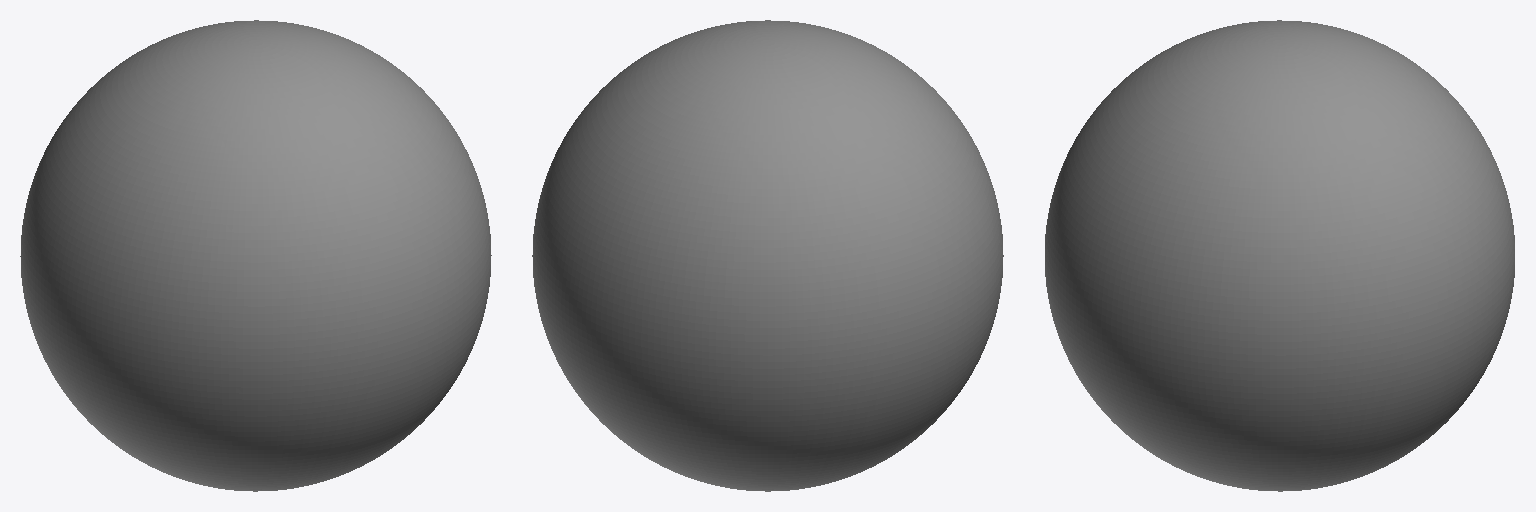
File: bulan.obj
The picture shows the model from 3 angles: view 1: azimuth 30°, elevation 25°; view 2: azimuth 150°, elevation 25°; view 3: azimuth 270°, elevation 25°; orthographic projection.
Parts seen in each view (by area): view 1: moon; view 2: moon; view 3: moon.
Boxes of the visible parts, x1=… form: moon: x1=20, y1=20, x2=491, y2=491; moon: x1=532, y1=20, x2=1003, y2=491; moon: x1=1045, y1=20, x2=1514, y2=491.
Bounding box in the file's own units: 117 × 117 × 117.